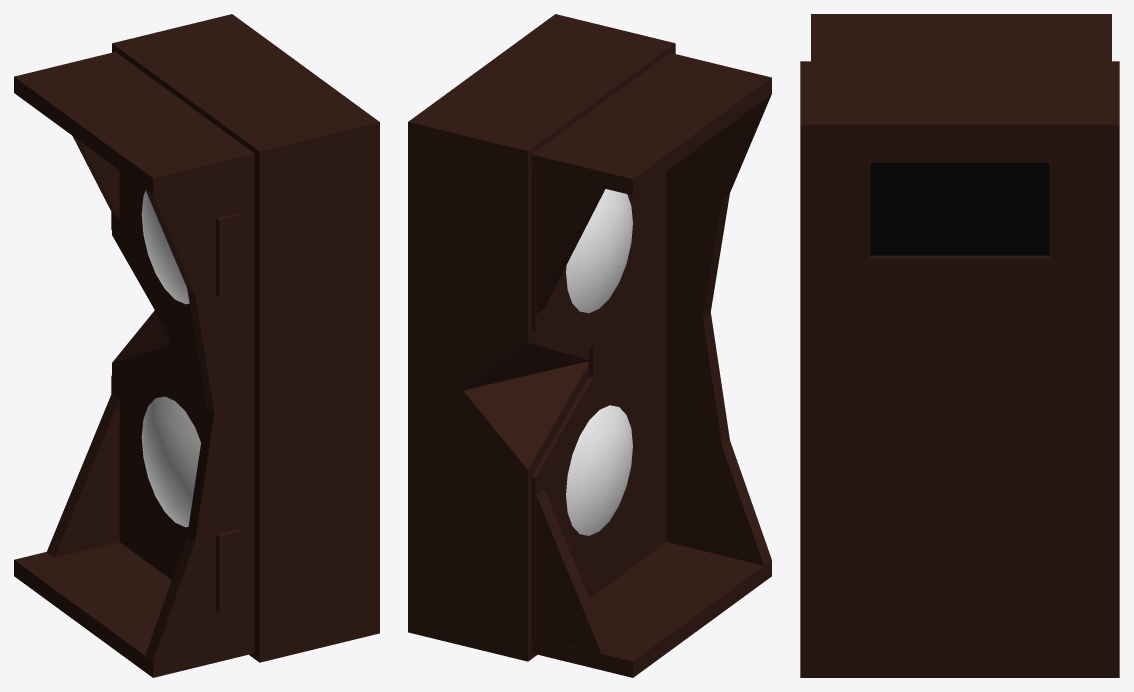
File: GoogleCardBoard_01.obj
The picture shows the model from 3 angles, left to right: view 1: azimuth 30°, elevation 25°; view 2: azimuth 150°, elevation 25°; view 3: azimuth 270°, elevation 25°; orthographic projection. The views are drawn at different scales.
Parts seen in each view (by area): view 1: Google:pCube58; view 2: Google:pCube58; view 3: Google:pCube58.
Part boxes in pixels (x1,y1,x2,y2): Google:pCube58: (14, 14, 379, 677); Google:pCube58: (408, 14, 771, 677); Google:pCube58: (800, 14, 1119, 677).
Bounding box in the file's own units: 35.56 × 78.31 × 41.01.
